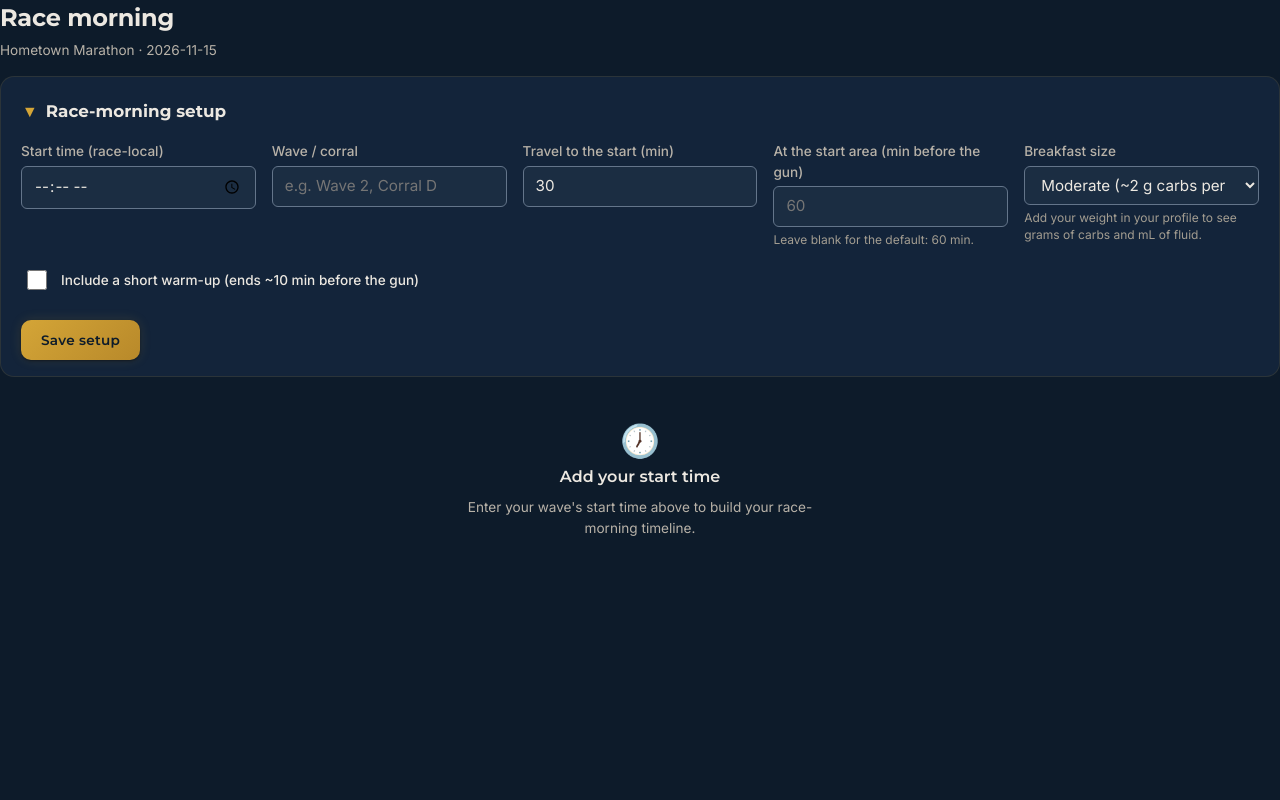
Scenario: RaceMorningPanel › asks for a start time when neither the context nor the race has one, then builds the timeline
Check: the text "Add your start time" is shown, box [560,465,720,489]
Type "08:00" into the time field labelled "Start time (race-local)" at (138, 187), box [21,166,256,209]
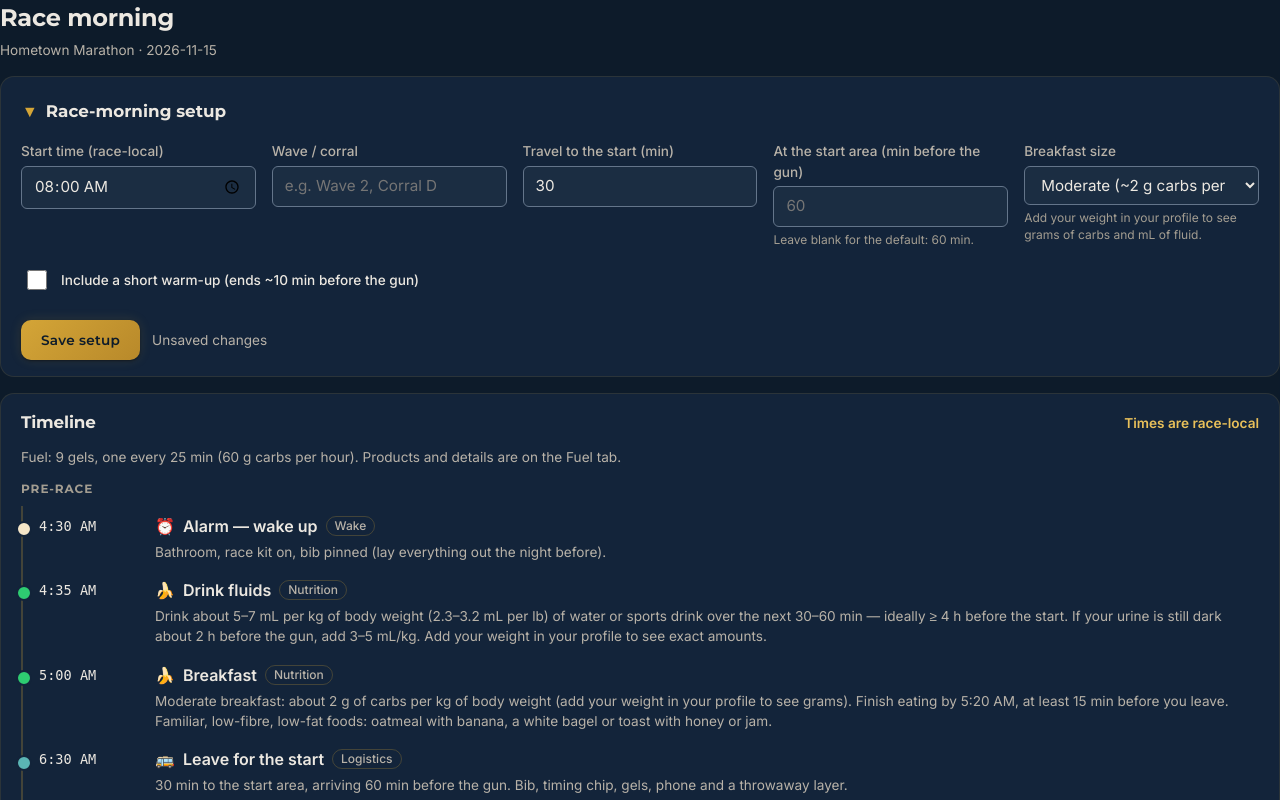
Check: the text "Add your start time" is gone
Check: the text "Times are race-local" is shown, box [1124,413,1259,433]
